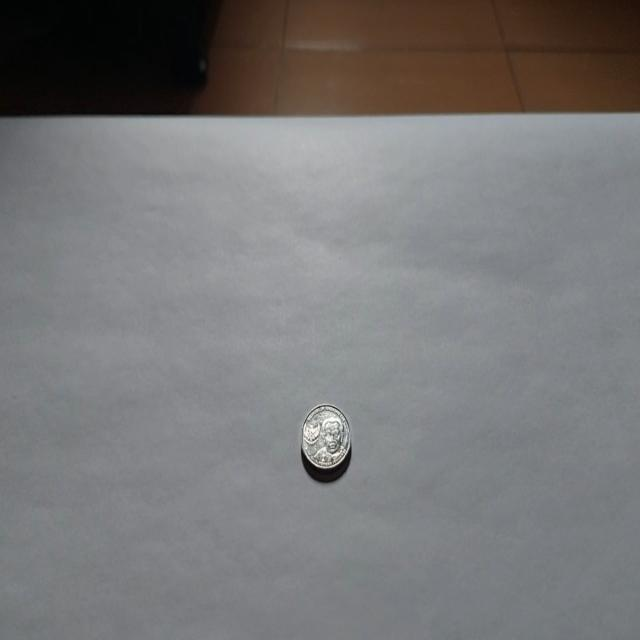seratus rupiah: (300, 402, 352, 478)
